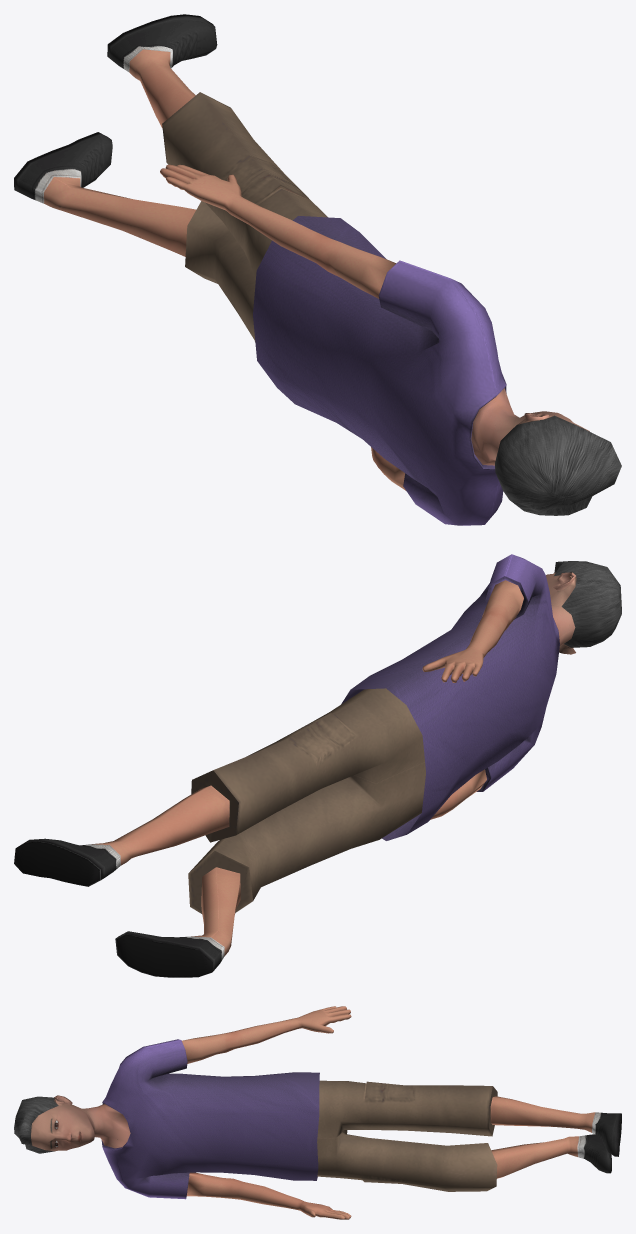
Rendered from walk.obj.
The picture shows the model from 3 angles, top to bottom: view 1: azimuth 30°, elevation 25°; view 2: azimuth 150°, elevation 25°; view 3: azimuth 270°, elevation 25°; orthographic projection. The views are drawn at different scales.
Size of the model in its own units: 0.5676 by 0.4972 by 1.76.
1 material, 1 textured.
